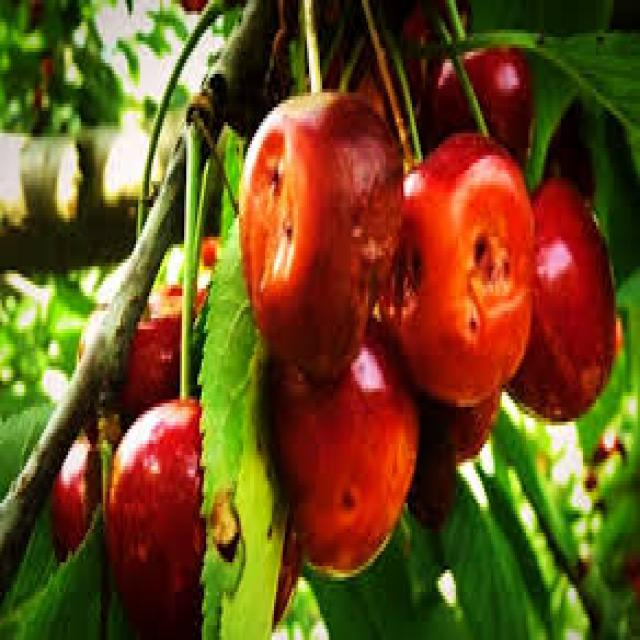organic waste: (237, 85, 406, 381), (105, 392, 300, 636), (379, 129, 535, 407), (261, 311, 416, 577), (502, 174, 620, 418), (74, 281, 212, 448), (432, 41, 537, 174), (50, 399, 123, 555), (403, 370, 504, 462), (404, 392, 452, 533), (169, 226, 221, 329), (585, 429, 623, 500)
